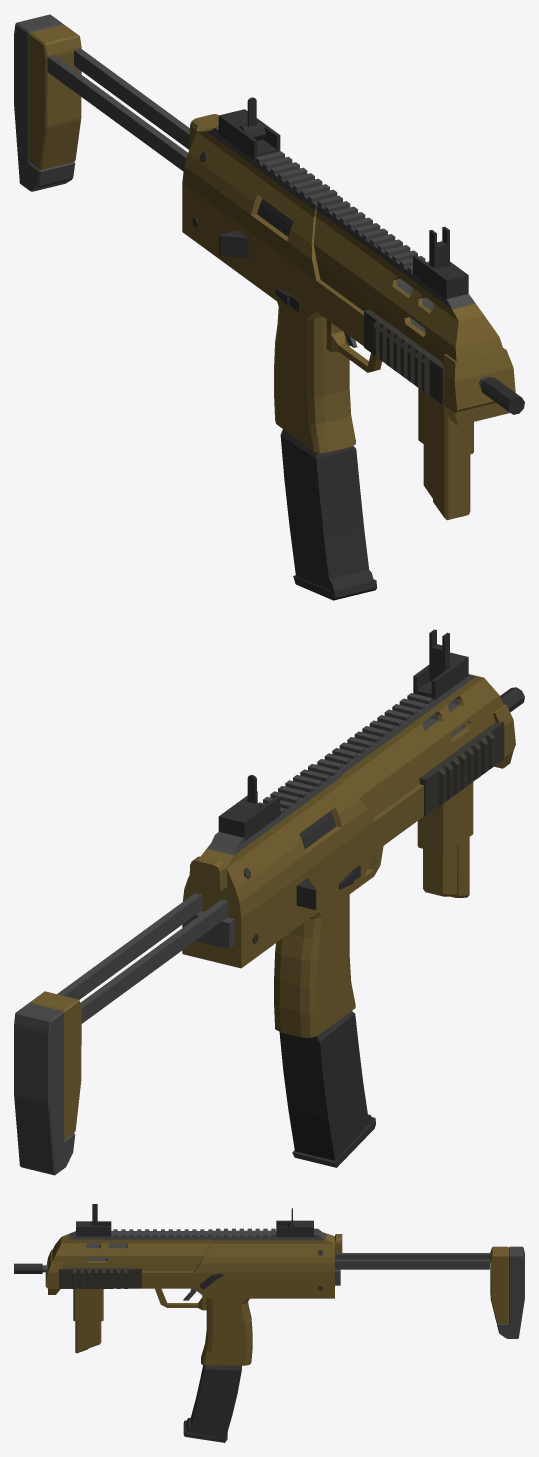
3 renders of one model, top to bottom at view 1: azimuth 30°, elevation 25°; view 2: azimuth 150°, elevation 25°; view 3: azimuth 270°, elevation 25°, orthographic. The views are drawn at different scales.
Parts seen in each view (by area): view 1: SM_MP7_001; view 2: SM_MP7_001; view 3: SM_MP7_001.
Boxes of the visible parts, box(x1,y1,x2,y2) form: SM_MP7_001: box(14, 14, 524, 600); SM_MP7_001: box(14, 629, 524, 1175); SM_MP7_001: box(14, 1204, 524, 1442).
Bounding box in the file's own units: 0.0579 × 0.2936 × 0.5877.
Materials: 1 (1 with a texture image).
